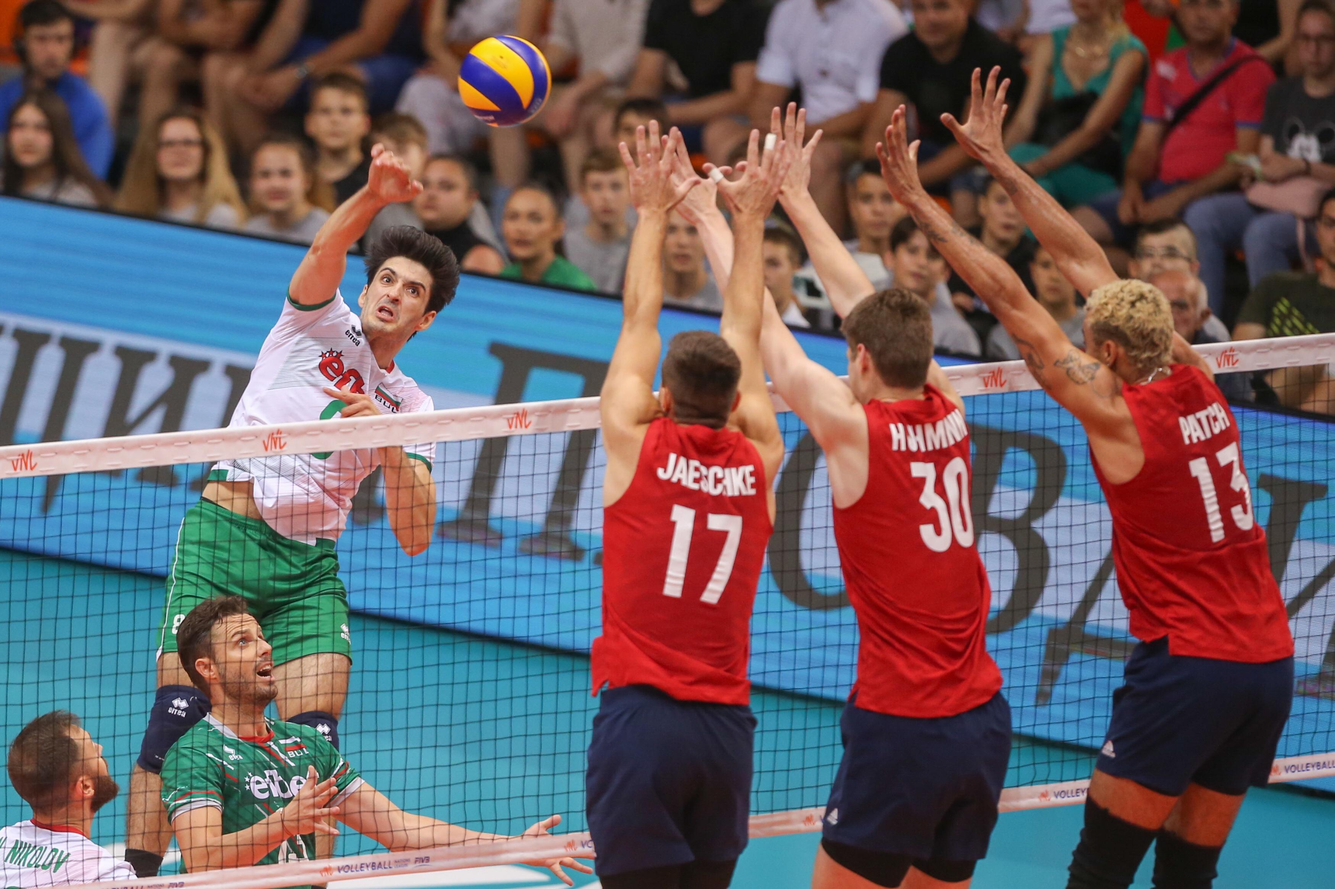ballon_volley: (456, 33, 553, 129)
